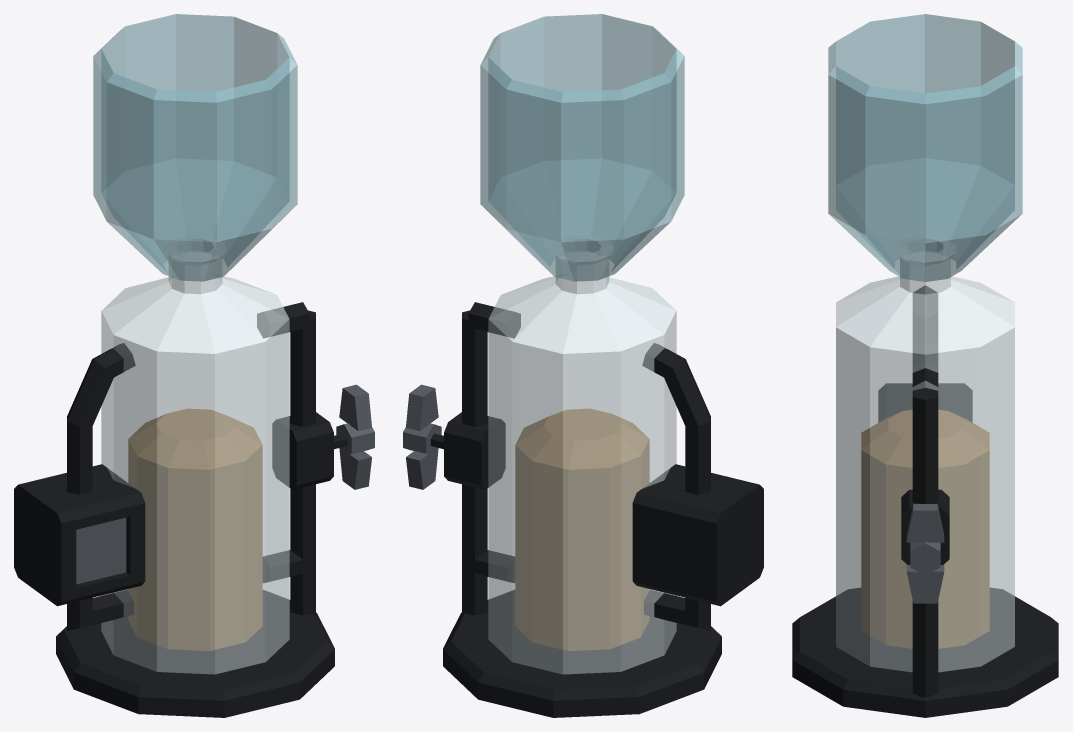
The model's file is protein-skimmer-876ec8.glb.
The picture shows the model from 3 angles, left to right: view 1: azimuth 30°, elevation 25°; view 2: azimuth 150°, elevation 25°; view 3: azimuth 270°, elevation 25°; orthographic projection.
Visible parts, largest first — view 1: skimmer-hardware, reaction-body, cup, valve-handle; view 2: skimmer-hardware, reaction-body, cup, valve-handle; view 3: reaction-body, skimmer-hardware, cup, valve-handle.
Boxes of the visible parts, box(x1,y1,x2,y2) form: skimmer-hardware: box(14, 302, 347, 717); reaction-body: box(101, 236, 289, 674); cup: box(93, 14, 297, 281); valve-handle: box(336, 384, 374, 489); skimmer-hardware: box(430, 302, 763, 717); reaction-body: box(488, 236, 676, 674); cup: box(480, 14, 684, 281); valve-handle: box(403, 384, 441, 489); reaction-body: box(836, 236, 1014, 672); skimmer-hardware: box(792, 285, 1058, 717); cup: box(828, 14, 1022, 281); valve-handle: box(906, 504, 944, 603).
Size of the model in its own units: 0.282 by 0.4959 by 0.1978.
